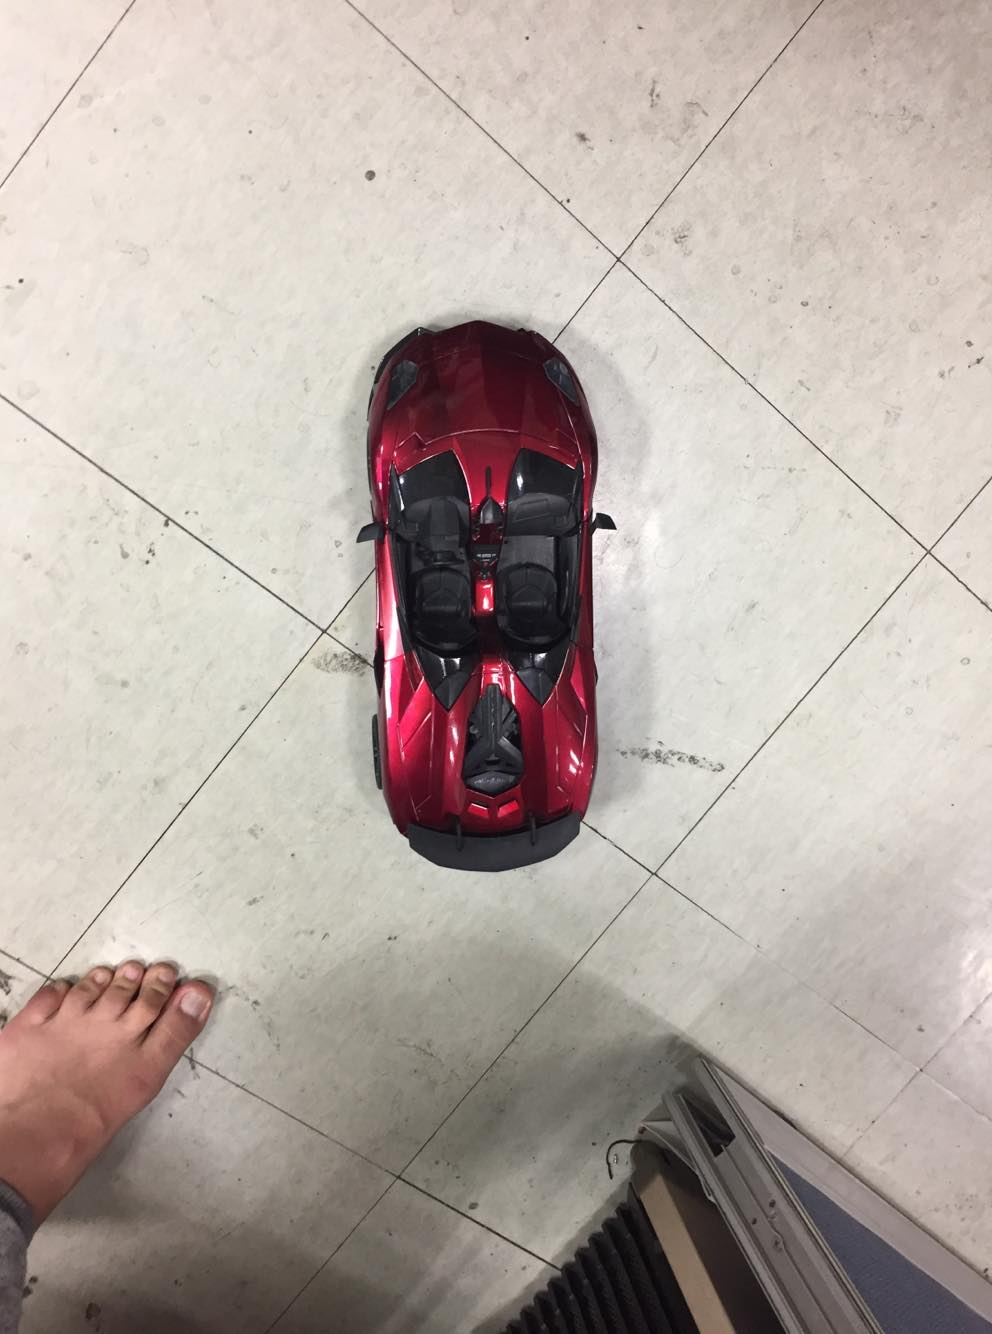car: (336, 301, 635, 874)
